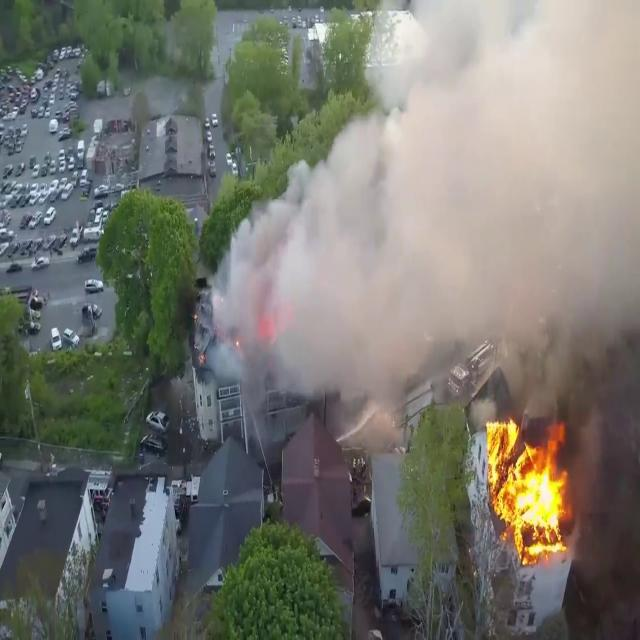Fire: (480, 406, 576, 558)
Smoke: (208, 1, 640, 428)
